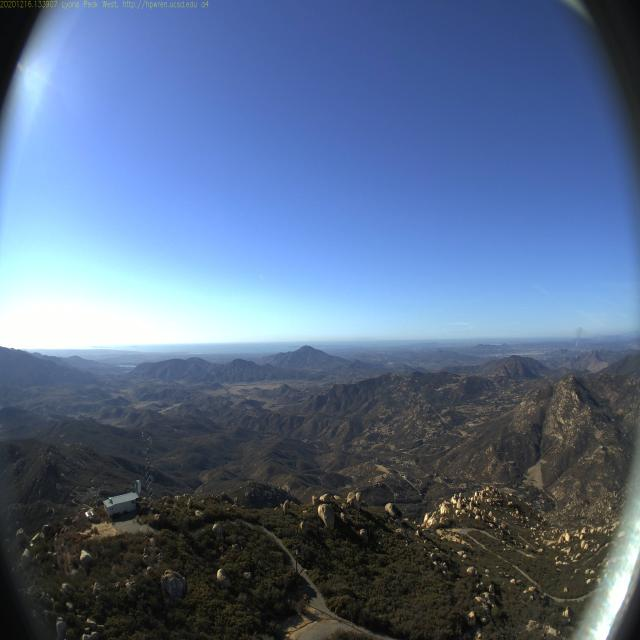smoke: (571, 324, 585, 353)
